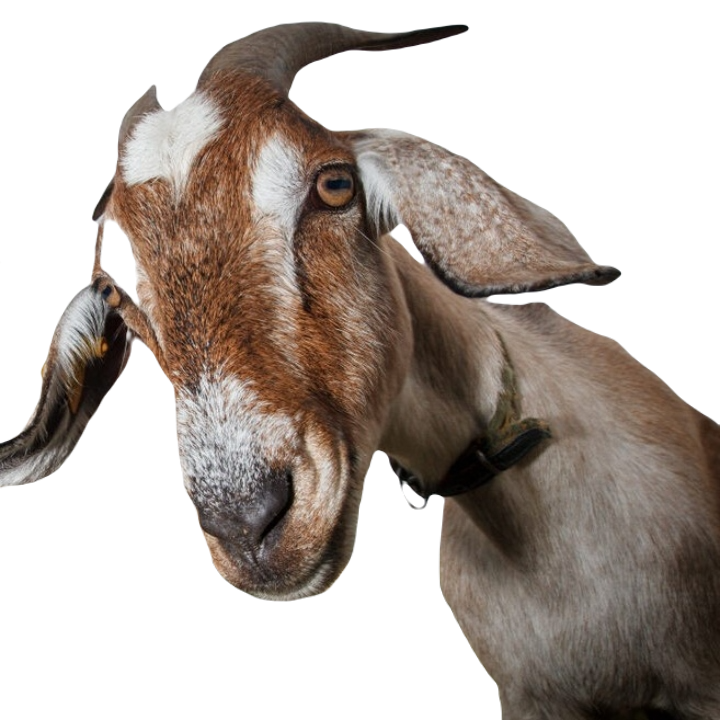Goat: (0, 22, 720, 719)
